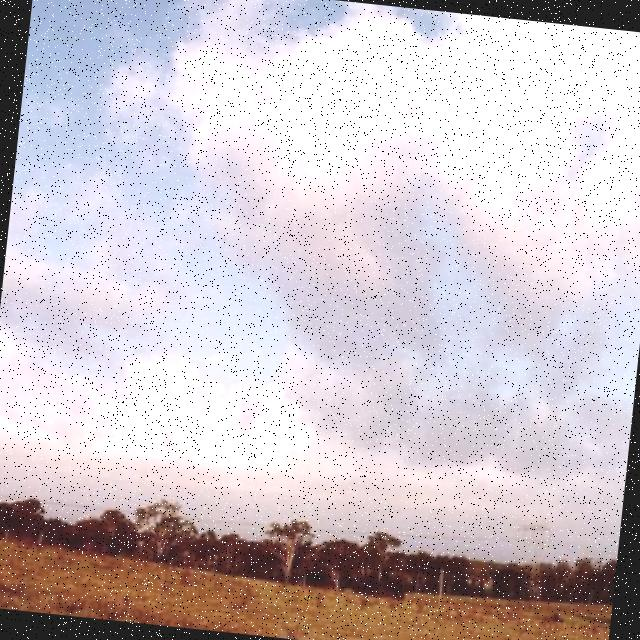Sc: (114, 1, 640, 375)
